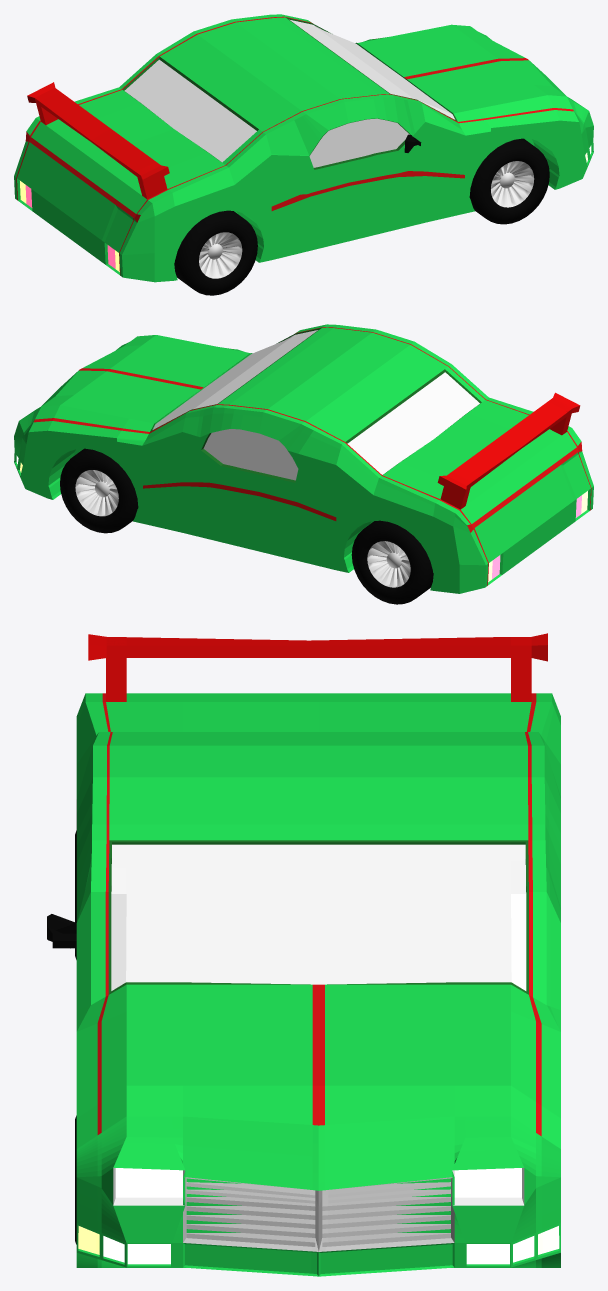
File: car2.gltf
The picture shows the model from 3 angles, top to bottom: view 1: azimuth 30°, elevation 25°; view 2: azimuth 150°, elevation 25°; view 3: azimuth 270°, elevation 25°; orthographic projection. The views are drawn at different scales.
Parts seen in each view (by area): view 1: Cube; view 2: Cube; view 3: Cube.
Boxes of the visible parts, bbox=[...] form: Cube: bbox=[14, 14, 593, 295]; Cube: bbox=[14, 324, 593, 604]; Cube: bbox=[47, 633, 560, 1276].
Bounding box in the file's own units: 4.64 × 1.46 × 2.12.
